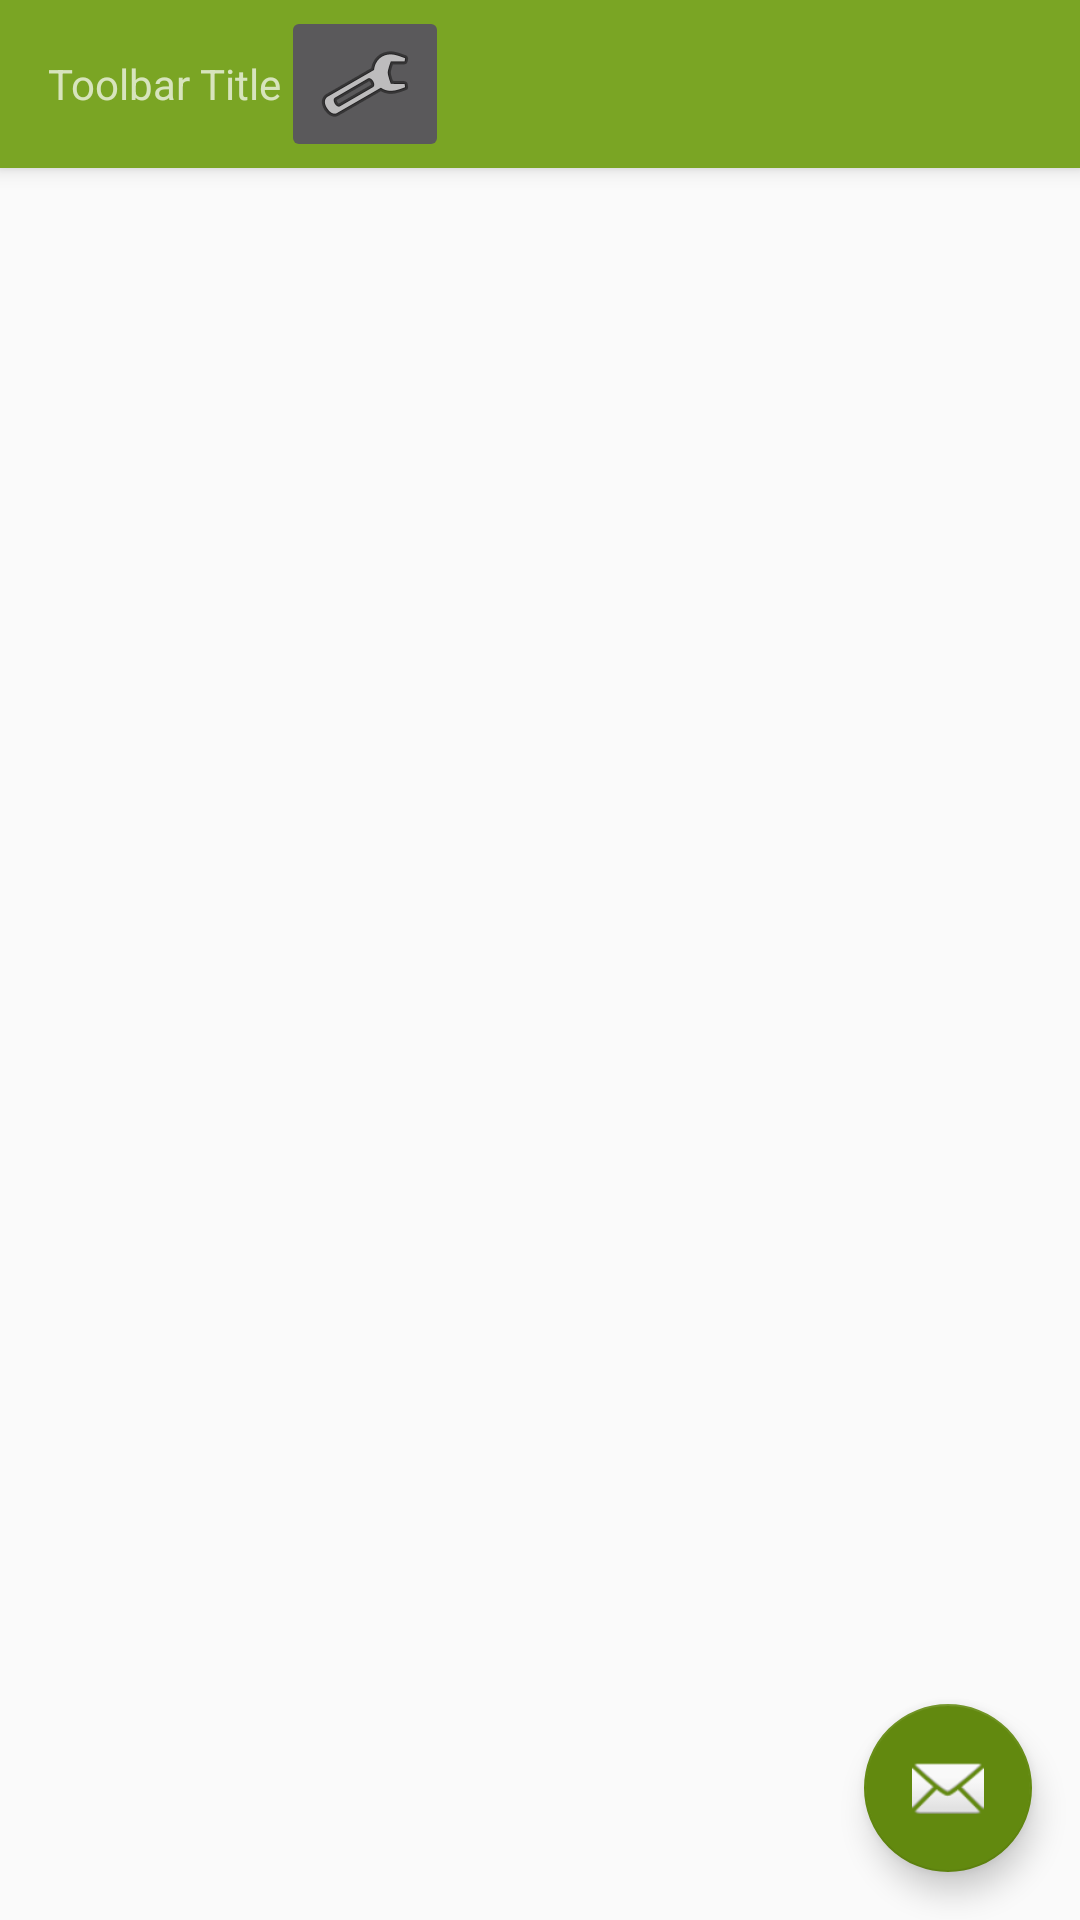

Locate icon controls on the screen. Image size 1080 × 1920, boxes as (x1, y1, x2, y2).
email: (864, 1704, 1032, 1872)
preferences: (293, 24, 437, 144)
